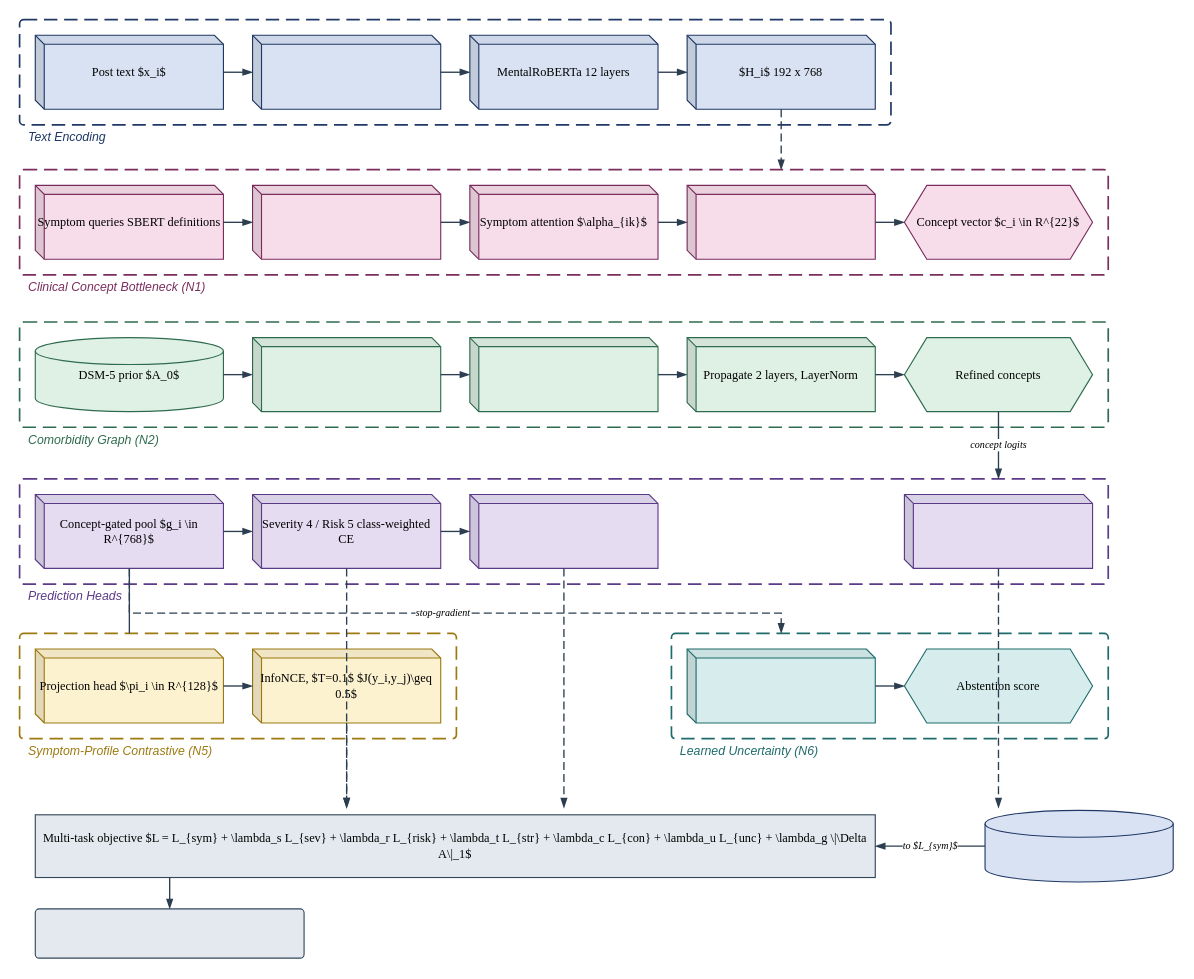
This 1194x979 diagram has some shape labels left out. The shapes that lost their labels are listed below. From the top down, each one's centre as x and y in pixels, then its label:
At (346,71): "Tokenise, 192".
At (346,221): "Definition projection".
At (780,221): "Per-symptom scoring $c_{ik}=w_k^{\top}Z_{ik}$".
At (346,374): "Learned residual $\Delta A$, $L_1$".
At (563,374): "Normalise $relu$, $+I$, $D^{-1/2}$".
At (563,530): "Stress head sigmoid".
At (998,530): "Symptom head 22 logits".
At (780,685): "Variance head $u_k^{\top}sg[g_i]$".
At (1078,845): "N3 Weak stream 6,000 posts, 11 unlabelled symptoms".
At (169,933): "Update 125.8 M parameters".
